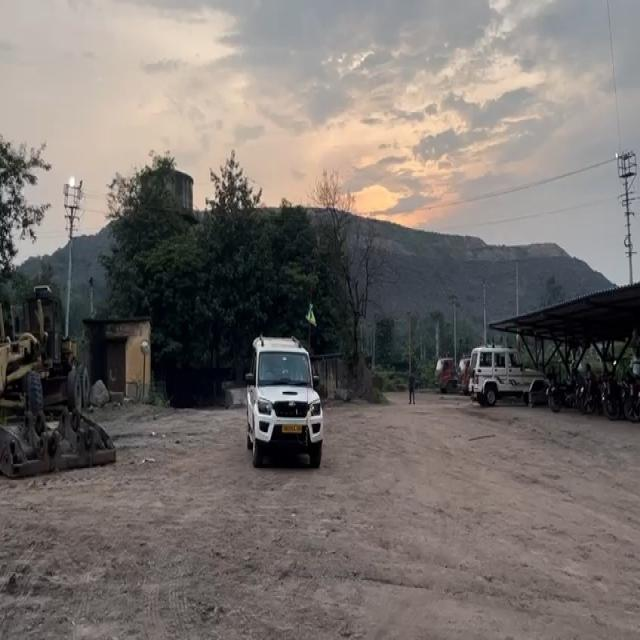light_vehicle: (247, 343, 326, 461), (467, 345, 543, 407)
